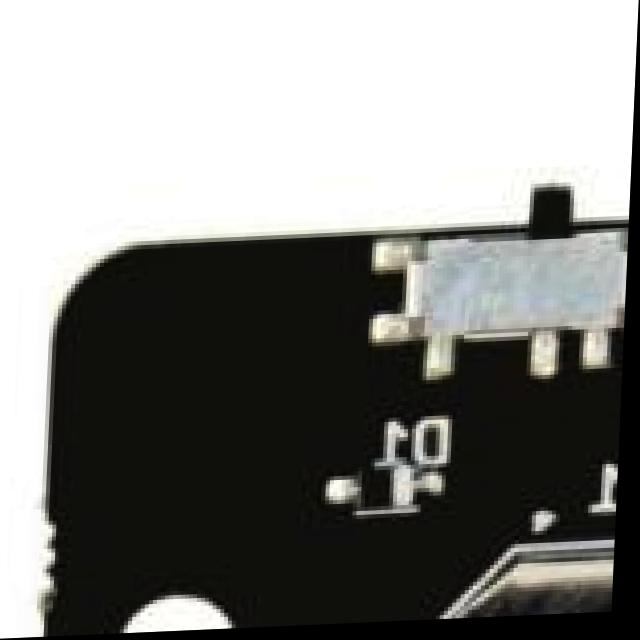battery: (226, 506, 622, 631)
diode: (339, 444, 432, 543)
switch: (370, 154, 634, 395)
